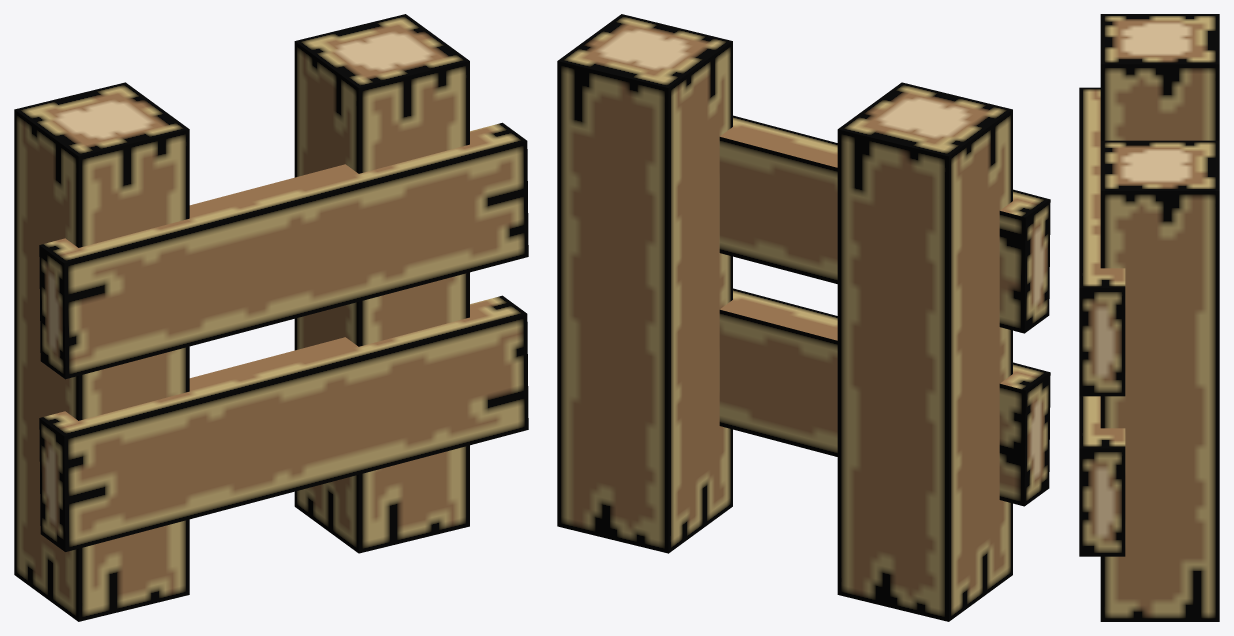
Rendered from deco_cathedral_fenceShort.FBX.
3 views of the same model, side by side, from view 1: azimuth 30°, elevation 25°; view 2: azimuth 150°, elevation 25°; view 3: azimuth 270°, elevation 25° (orthographic). The views are drawn at different scales.
Parts seen in each view (by area): view 1: deco_cathedral_fenceShort; view 2: deco_cathedral_fenceShort; view 3: deco_cathedral_fenceShort.
Part boxes in pixels (x1,y1,x2,y2): deco_cathedral_fenceShort: [14, 14, 528, 621]; deco_cathedral_fenceShort: [557, 14, 1050, 621]; deco_cathedral_fenceShort: [1079, 14, 1219, 621].
Bounding box in the file's own units: 2.09 × 2 × 0.5897.
Materials: 1 (1 with a texture image).
